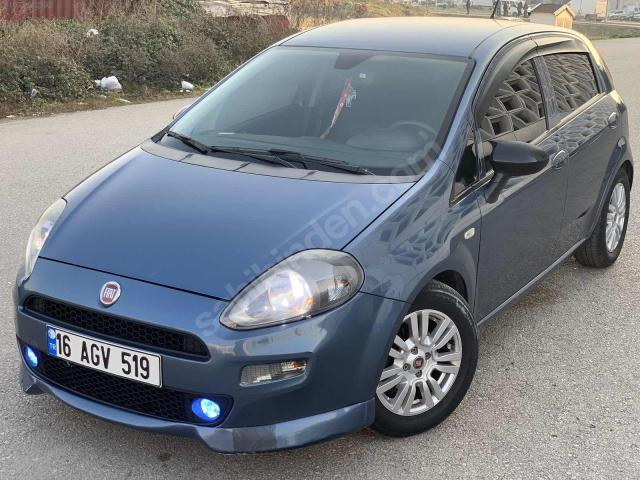plaka: (47, 326, 161, 386)
